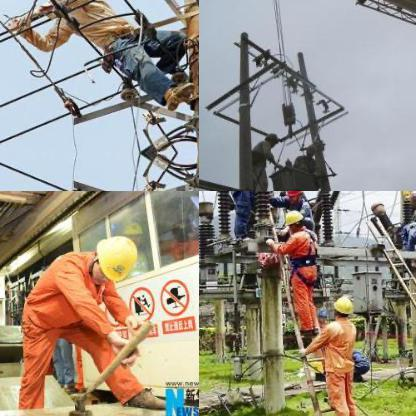Helmet: (88, 231, 140, 285), (330, 295, 353, 320), (283, 204, 303, 232), (261, 128, 279, 146), (281, 191, 305, 202), (316, 306, 328, 324)
